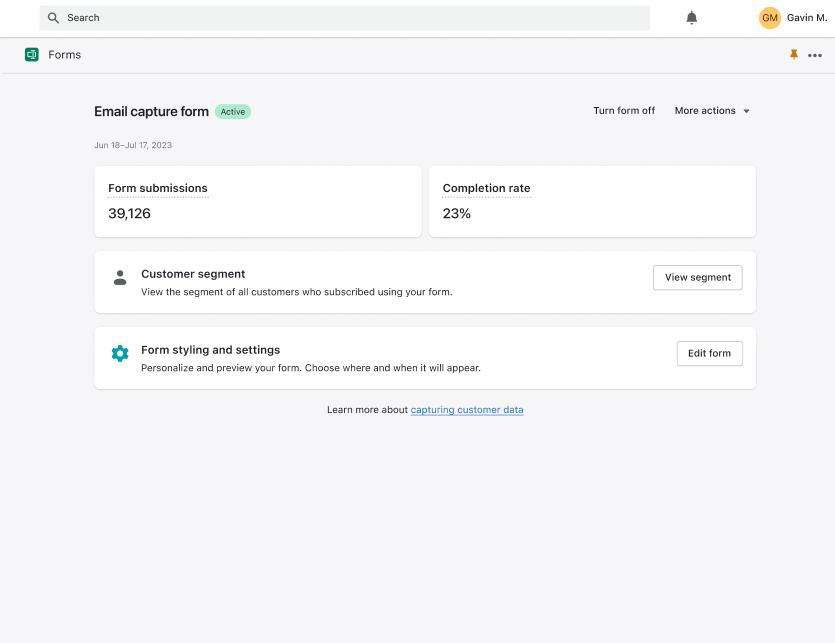button: (654, 266, 743, 292), (679, 342, 745, 368)
icon: (21, 43, 45, 70), (109, 342, 131, 364), (112, 268, 129, 291), (684, 10, 702, 31), (46, 8, 64, 27), (788, 46, 803, 65), (740, 102, 755, 119), (809, 52, 826, 60)
input: (42, 4, 653, 34)
